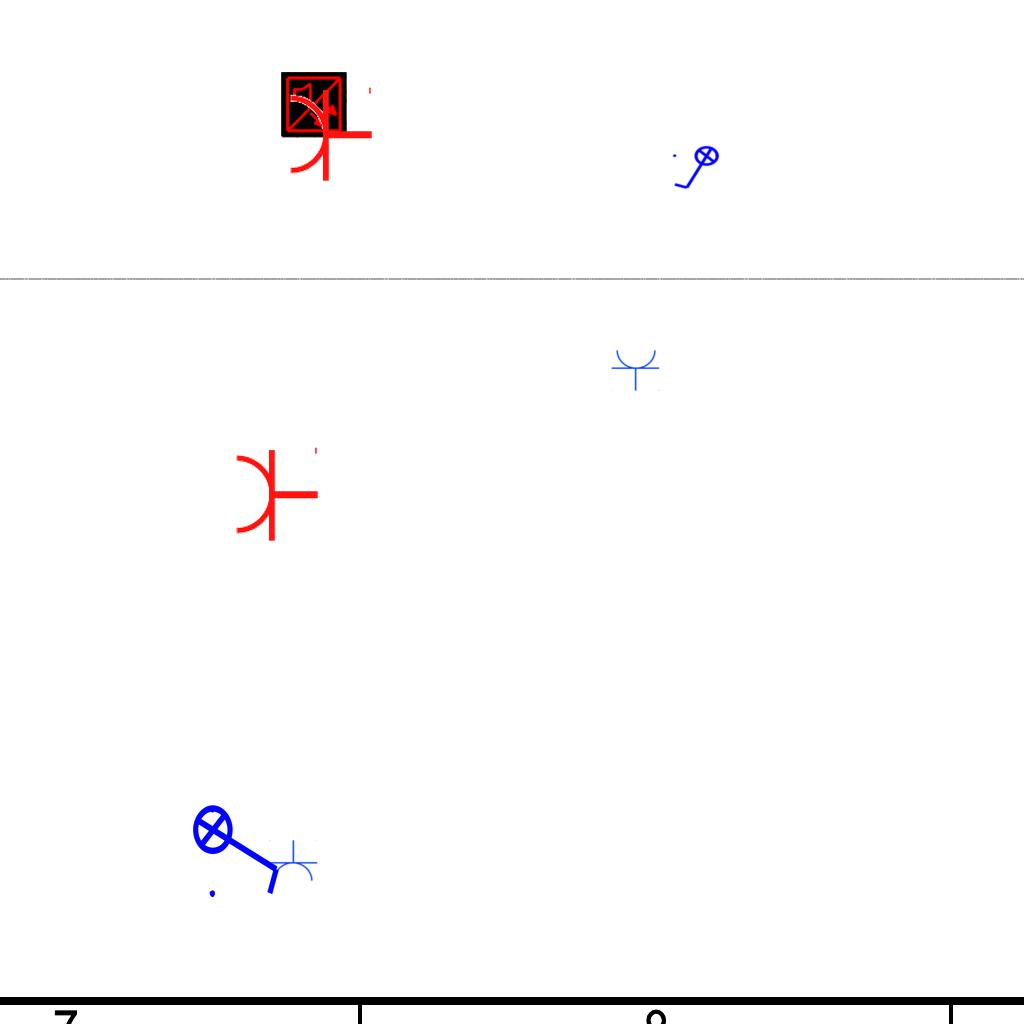Ausschalter_beleuchtet: (191, 791, 287, 903), (670, 145, 726, 193)
OKW_Multisensormelder_(Kombination_optischer_Rauch-Kahlenmonoxid_Waerme-Melder): (281, 72, 347, 138)
Schukosteckdose_einfach: (233, 443, 320, 543), (287, 83, 374, 183), (268, 840, 318, 883), (611, 348, 661, 391)
